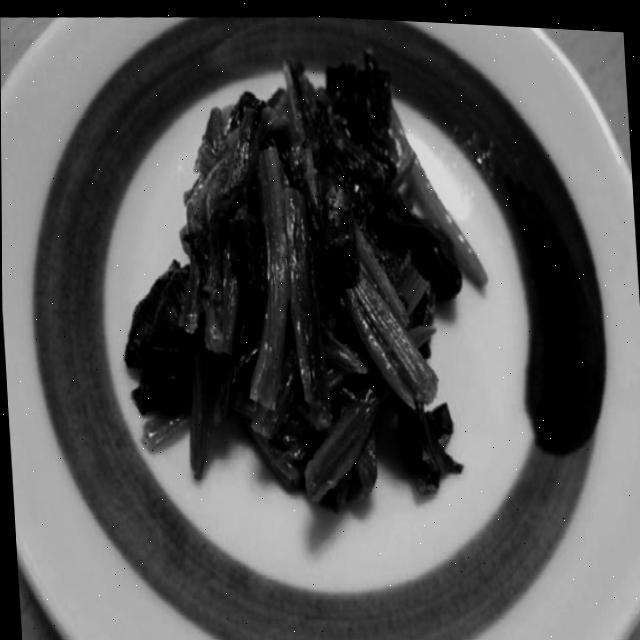蔬菜料理: (59, 2, 539, 572)
